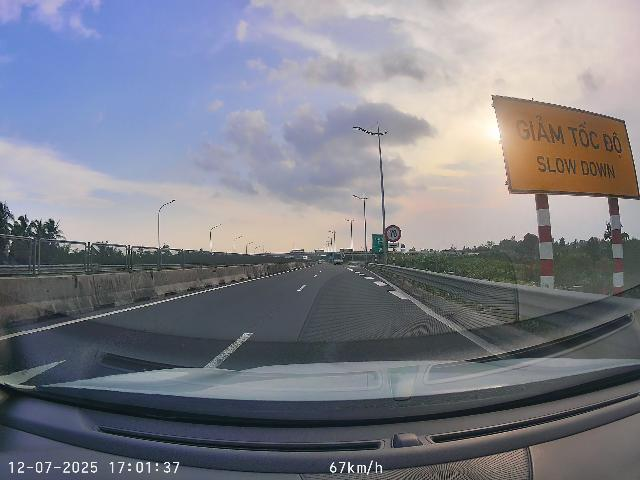127-toc-do-toi-da-70: (385, 225, 402, 242)
